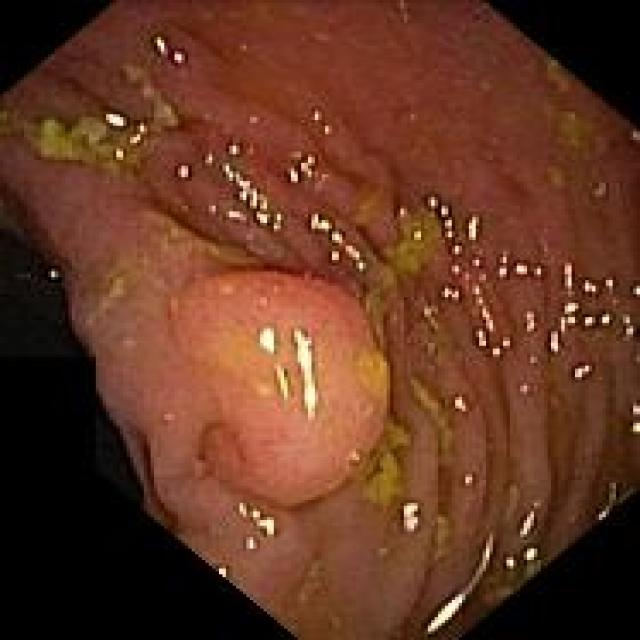Polyps: (172, 271, 389, 507)
